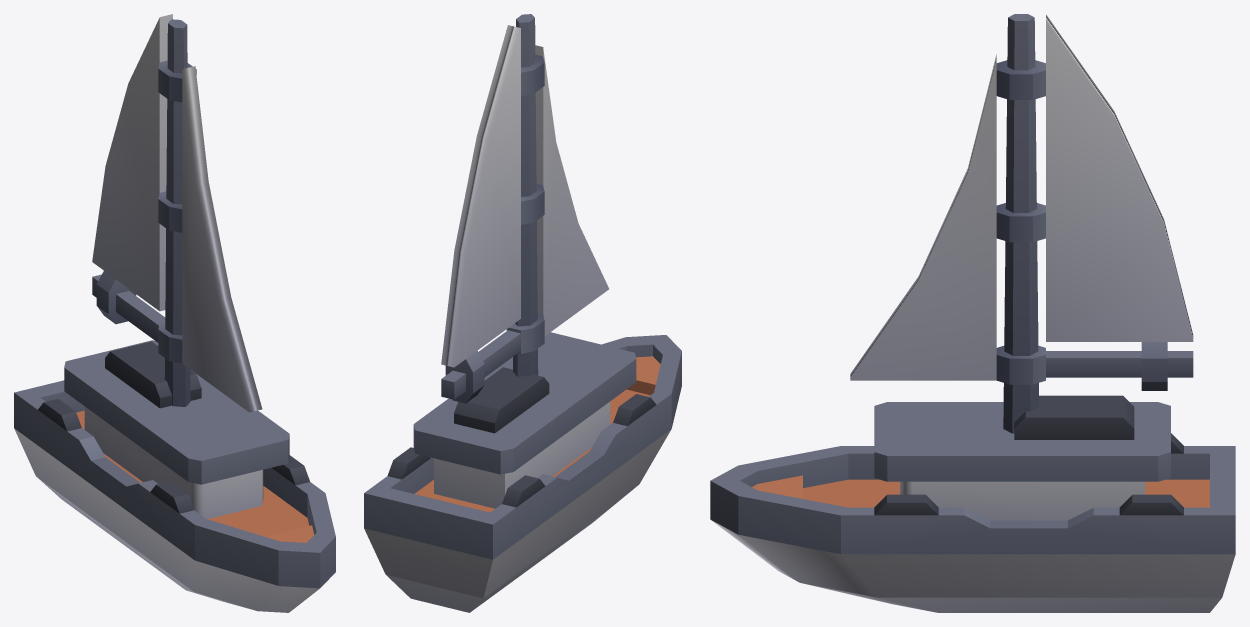
Rendered from sailboatB.glb.
3 renders of one model, left to right at view 1: azimuth 30°, elevation 25°; view 2: azimuth 150°, elevation 25°; view 3: azimuth 270°, elevation 25°, orthographic. The views are drawn at different scales.
Visible parts, largest first — view 1: sailboatB; view 2: sailboatB; view 3: sailboatB.
Boxes of the visible parts, <box> form: sailboatB: <box>14,14,335,612</box>; sailboatB: <box>364,14,681,612</box>; sailboatB: <box>710,14,1235,612</box>.
Size of the model in its own units: 3.6 by 14 by 11.5.
